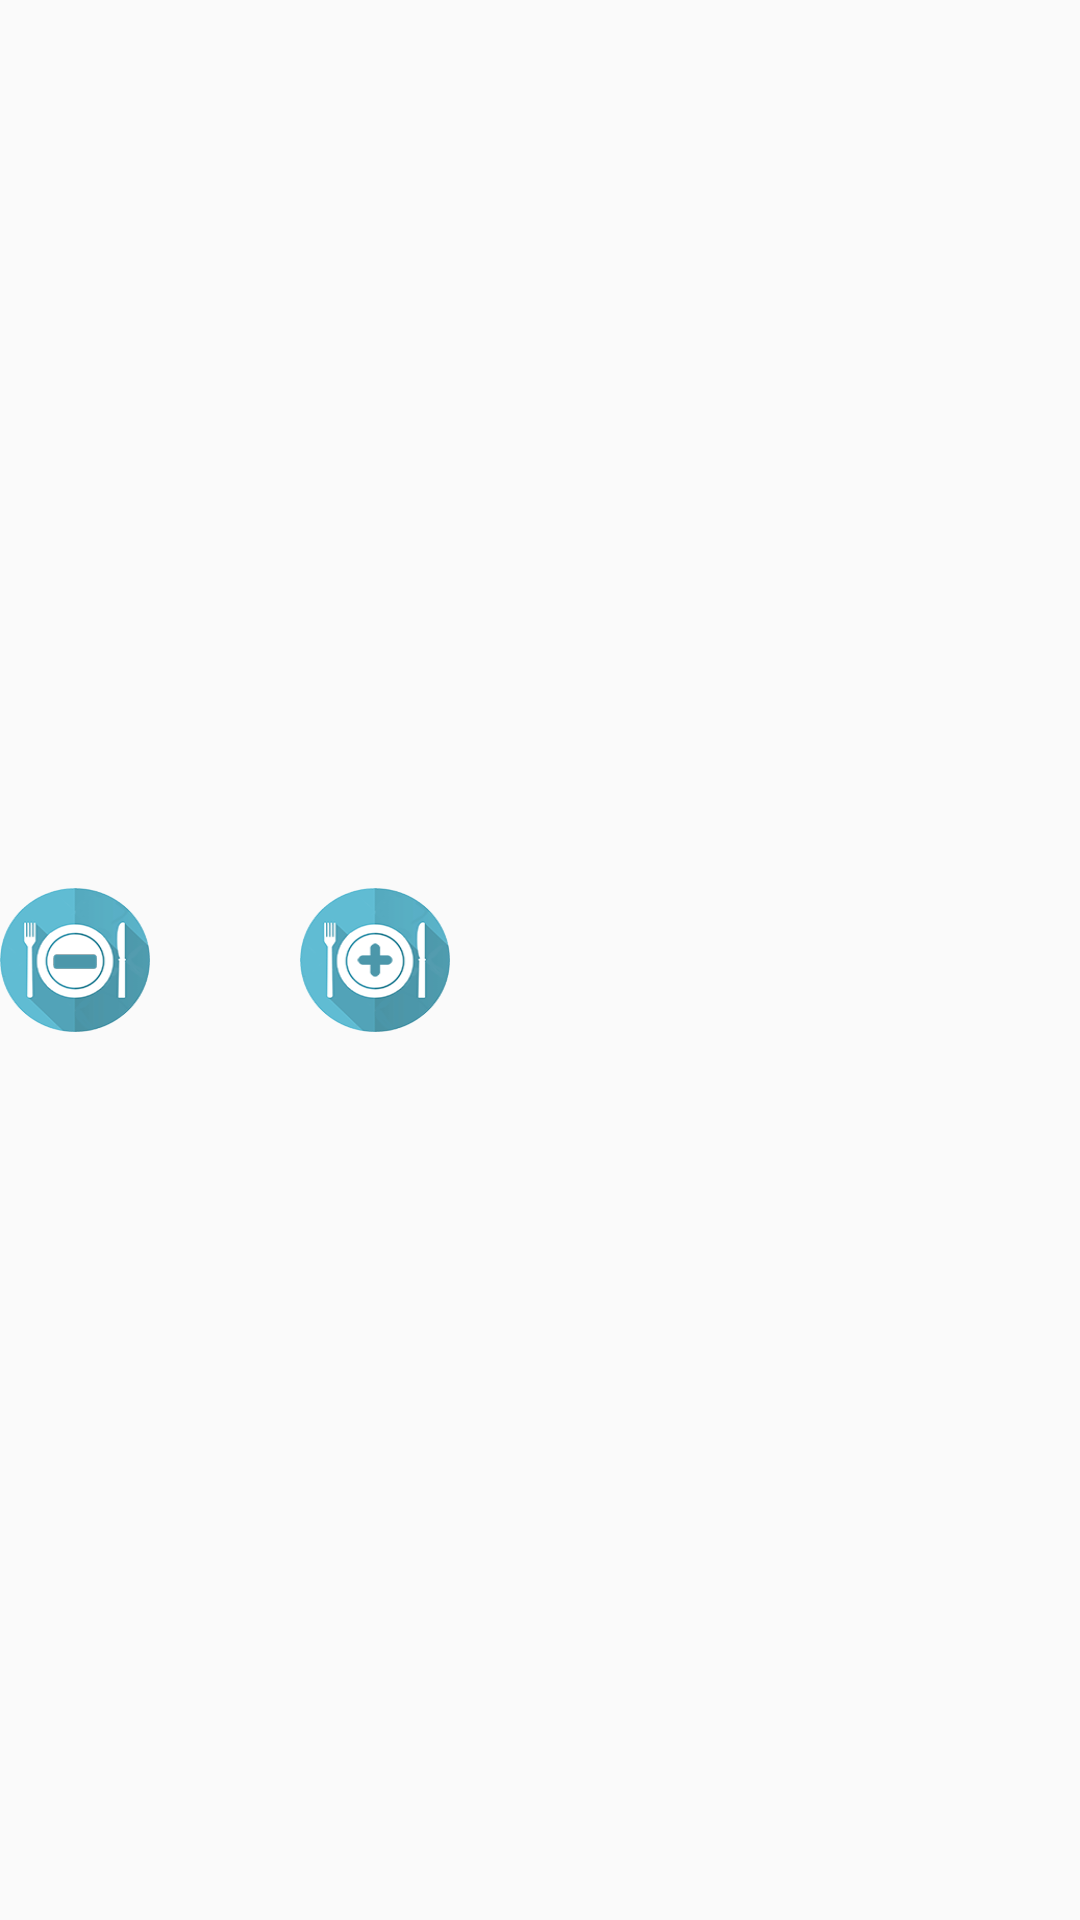

Icon click points for this 1080*1920 phone screenshot, format [x,y]:
decrement: [75,960]
increment: [375,960]
